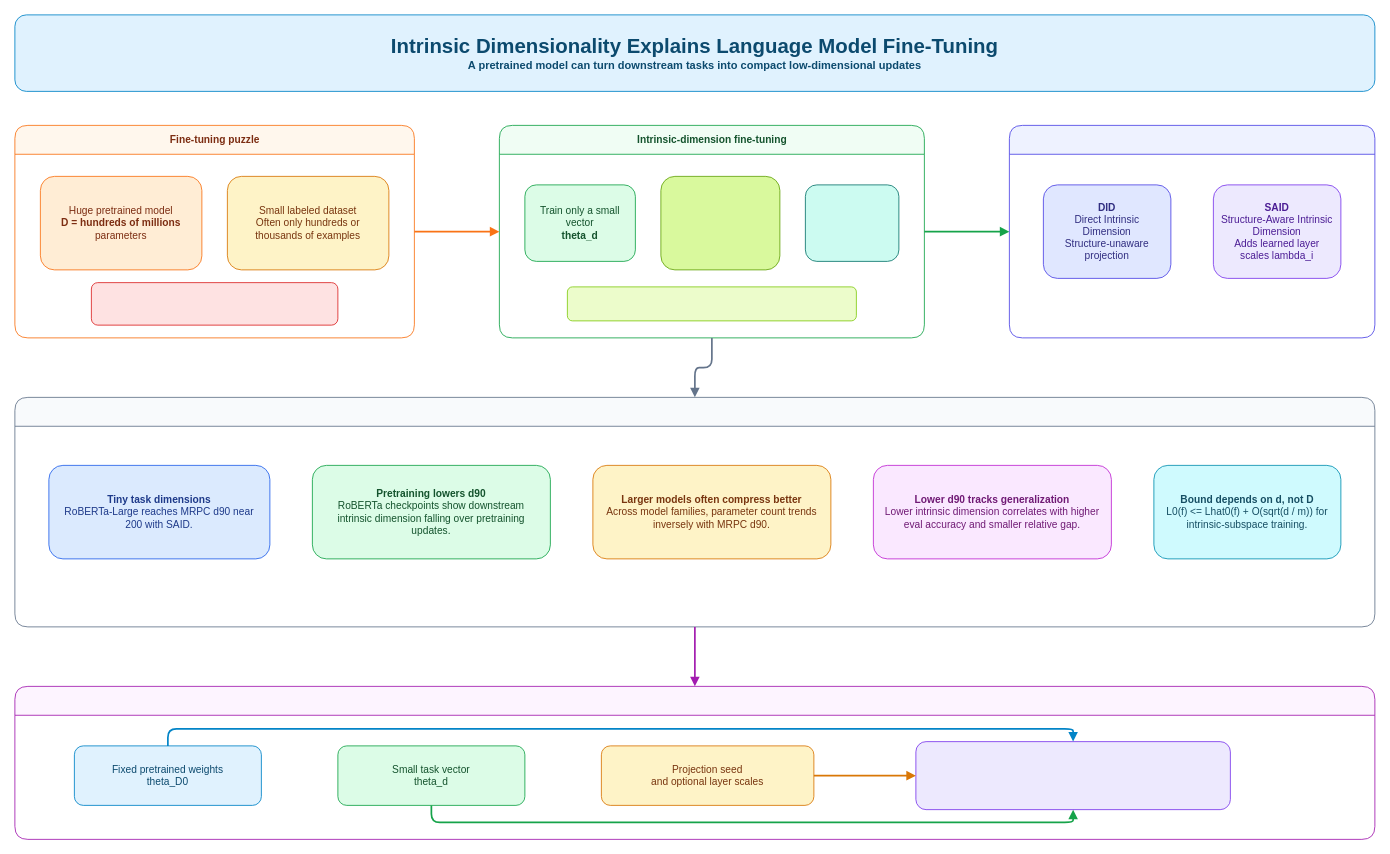
The diagram is 1390 pixels wide and 854 high, and some of its shapes have lost their labels. The shapes that lost their labels are listed below. From the top down, each one's box as (x1, y1, x2, y2) in pixels, then its label:
(660, 176, 780, 270): Fixed random projection P: R^d to R^D Fastfood makes it feasible
(805, 184, 899, 261): Full update theta_D = theta_D0 + P(theta_d)
(1009, 125, 1375, 338): Two measured variants
(91, 282, 338, 325): Question Why does relatively vanilla gradient descent generalize?
(567, 286, 856, 321): d90 = smallest d that reaches 90% of full fine-tuning performance
(14, 397, 1375, 627): Empirical findings
(14, 686, 1375, 839): Interpretation: pretraining creates a compression framework for NLP tasks
(915, 741, 1230, 810): Compact downstream task description No need to store a full model per task
